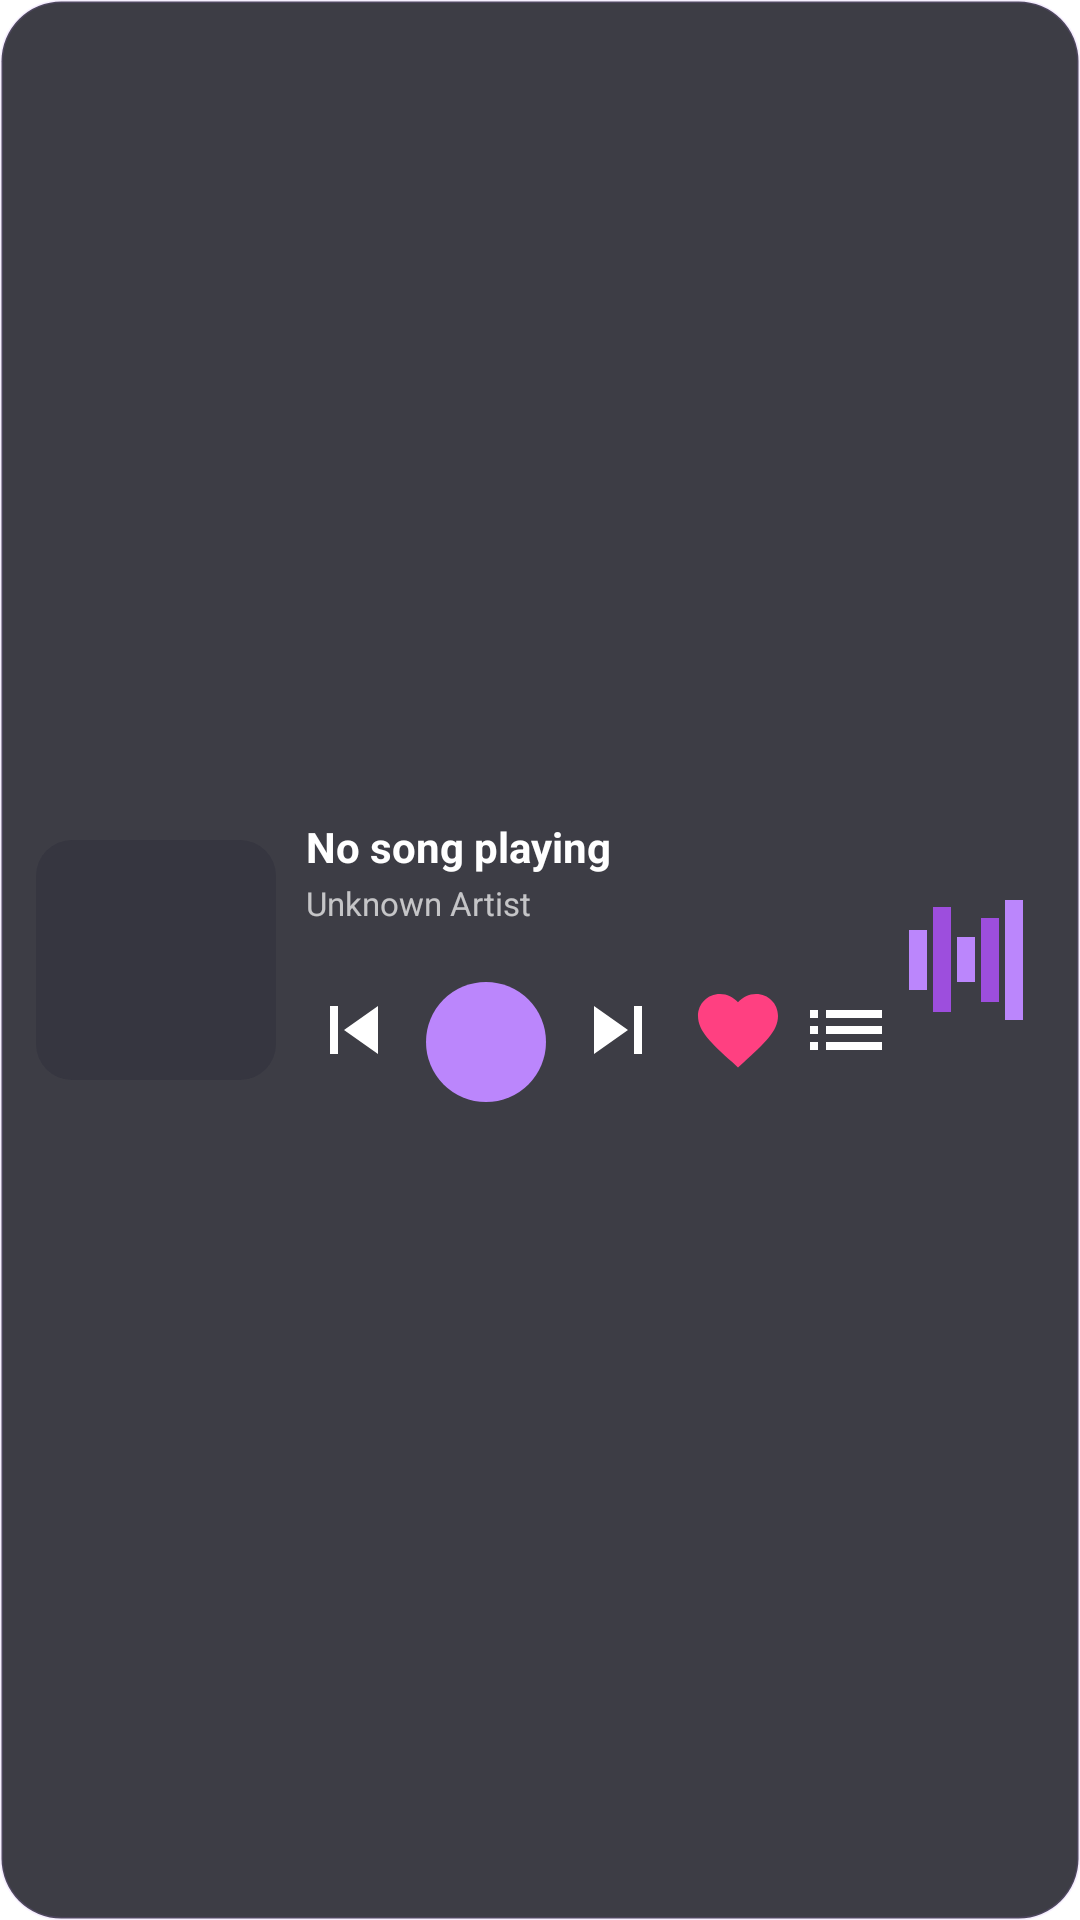

Locate icon controls on the screen. Image size 1080w x 1920h, boxes as (x1, y1, x2, y2).
Favorite: (698, 994, 778, 1068)
Next: (594, 1006, 642, 1054)
Previous: (330, 1006, 378, 1054)
